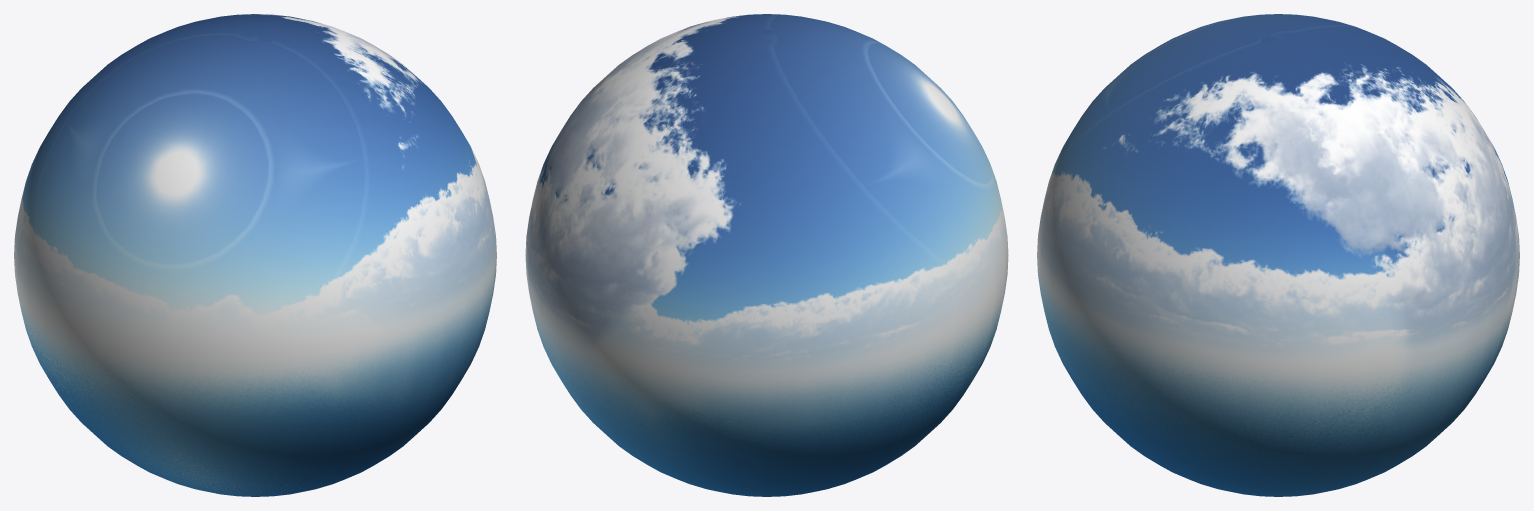
The model's file is SkyDome.fbx.
The picture shows the model from 3 angles, left to right: view 1: azimuth 30°, elevation 25°; view 2: azimuth 150°, elevation 25°; view 3: azimuth 270°, elevation 25°; orthographic projection.
Parts seen in each view (by area): view 1: SkyDome:_dummy_node; view 2: SkyDome:_dummy_node; view 3: SkyDome:_dummy_node.
Part boxes in pixels (x1=…): SkyDome:_dummy_node: x1=14, y1=14, x2=496, y2=496; SkyDome:_dummy_node: x1=525, y1=14, x2=1008, y2=496; SkyDome:_dummy_node: x1=1037, y1=14, x2=1519, y2=496.
Size of the model in its own units: 2000 by 2000 by 2000.
Materials: 1 (1 with a texture image).
